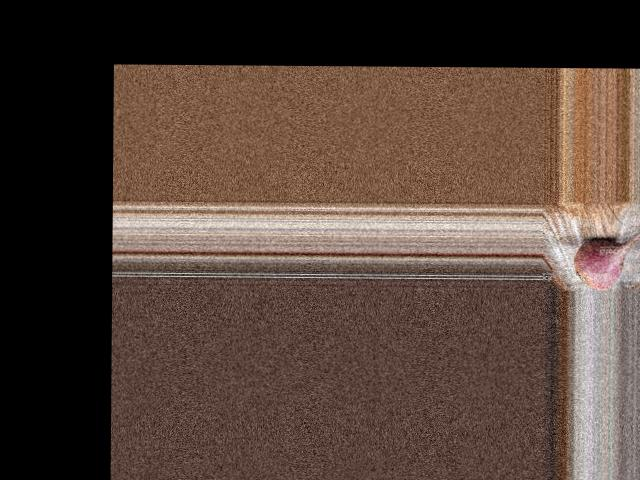beet: (574, 224, 640, 290)
